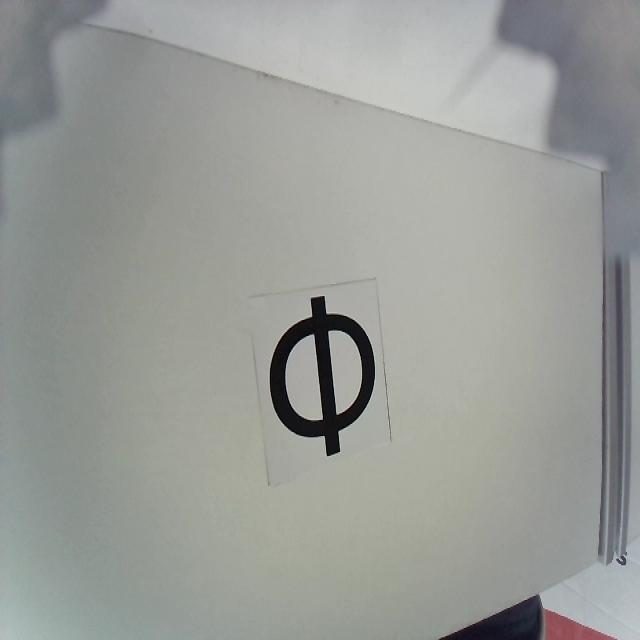F: (269, 294, 376, 459)
